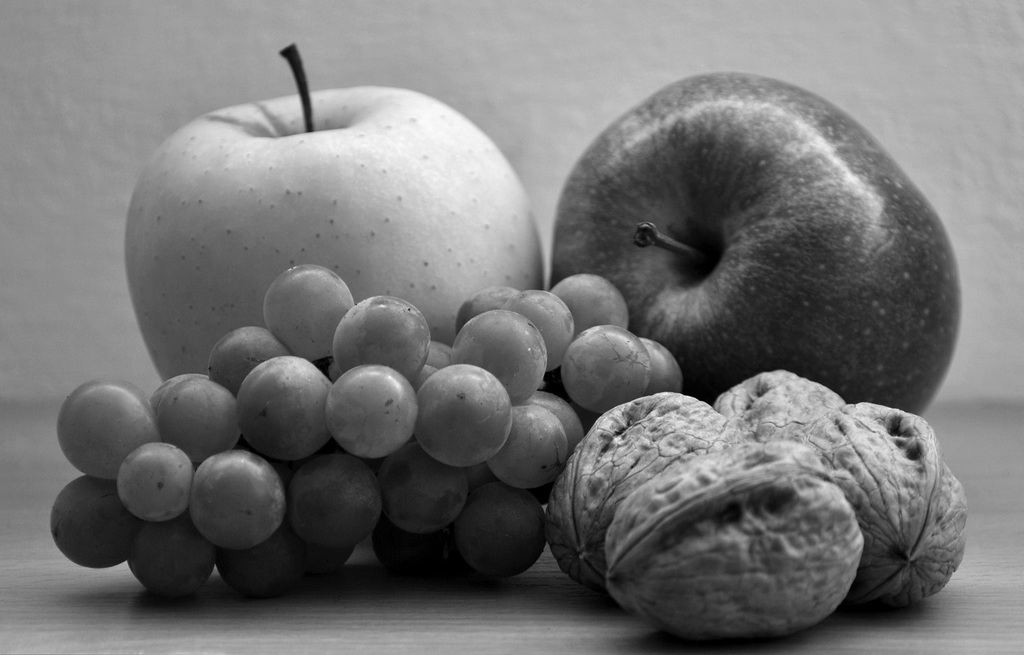Apple: (122, 38, 547, 387), (549, 69, 961, 414)
